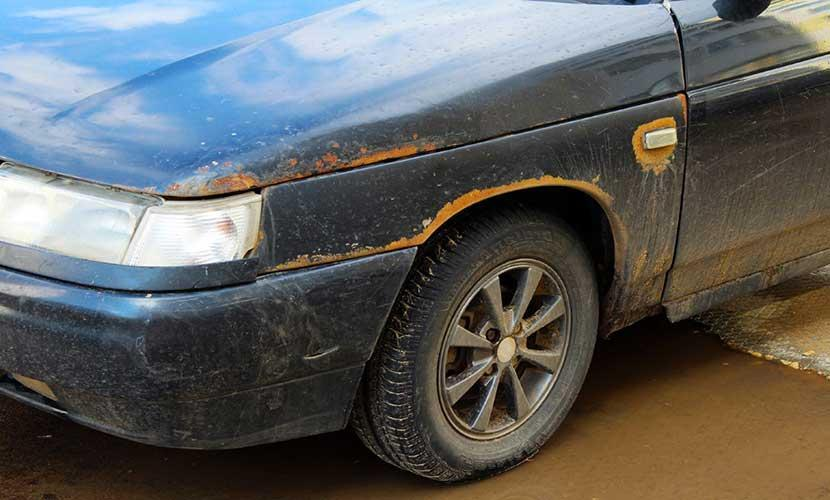corrosion: (151, 124, 453, 199), (408, 176, 617, 243), (270, 238, 434, 274), (627, 120, 694, 175)
